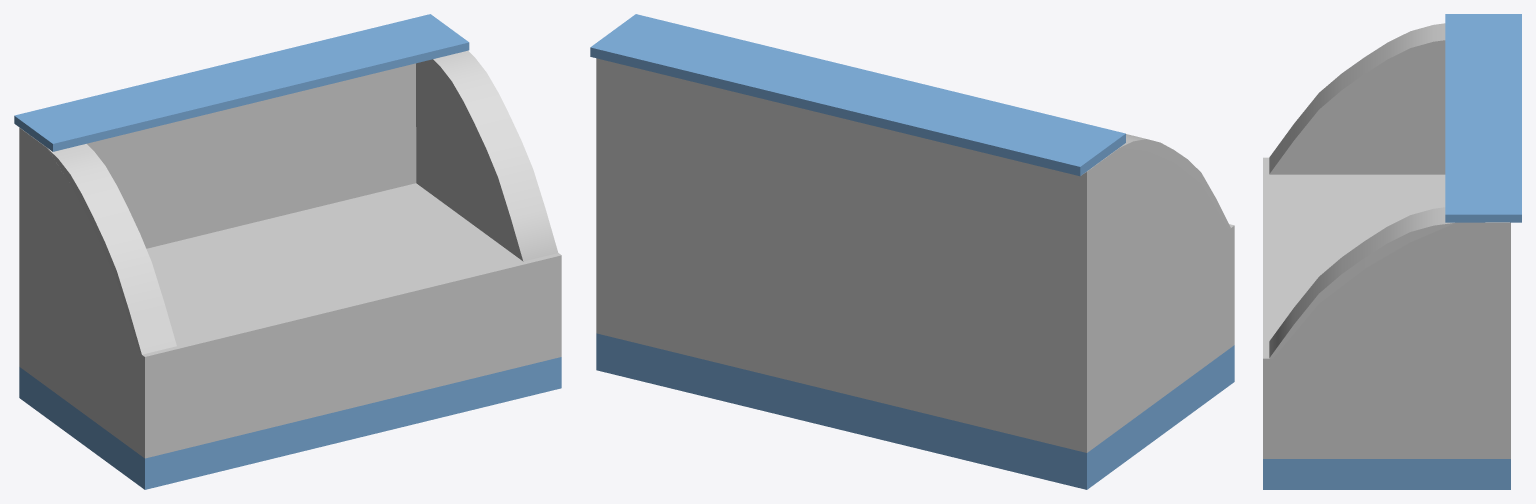
The model's file is Vitrine_x2.fbx.
3 renders of one model, left to right at view 1: azimuth 30°, elevation 25°; view 2: azimuth 150°, elevation 25°; view 3: azimuth 270°, elevation 25°, orthographic. The views are drawn at different scales.
Visible parts, largest first — view 1: Cube.017; view 2: Cube.017; view 3: Cube.017.
Boxes of the visible parts, x1=… form: Cube.017: x1=14, y1=14, x2=561, y2=489; Cube.017: x1=590, y1=14, x2=1234, y2=489; Cube.017: x1=1263, y1=14, x2=1521, y2=489.
Size of the model in its own units: 200 by 128 by 109.
